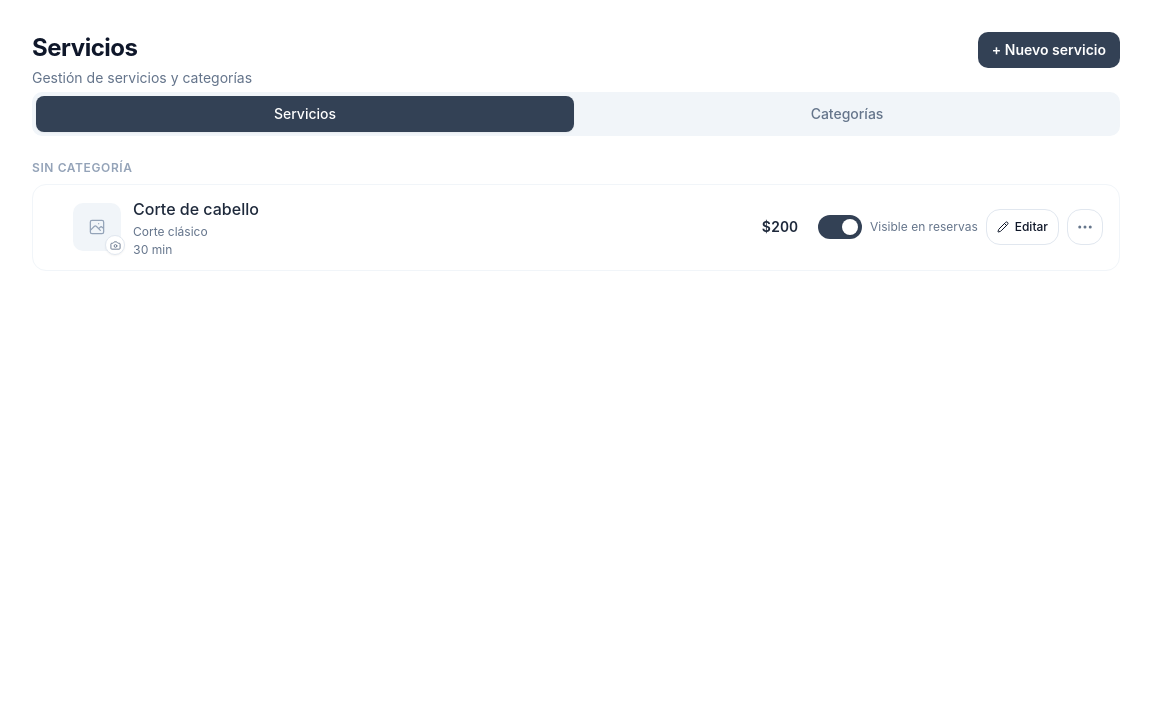
ServiciosPage — visibilidad y destacado (OM-30) › la visibilidad es un interruptor con nombre de acción y el destacado anuncia su estado
Click the button named "Más acciones de Corte de cabello". click: [1085, 227]
box: [1067, 209, 1103, 245]
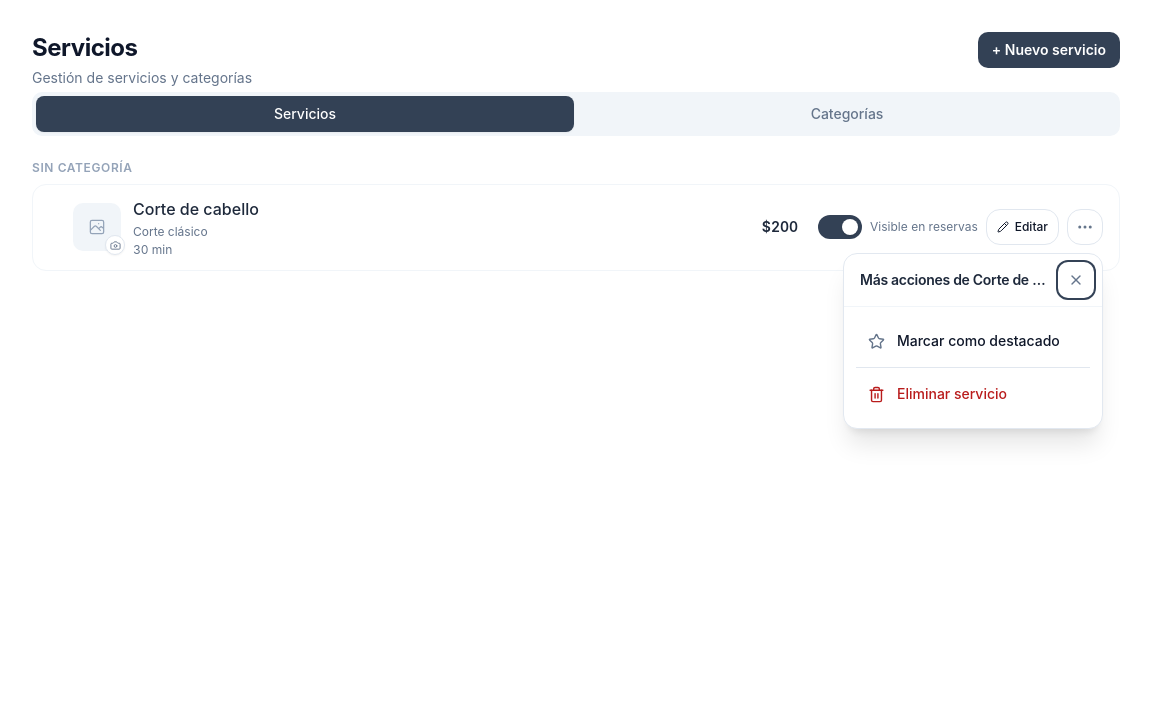
Check: the button "Marcar como destacado" is shown, box [856, 319, 1090, 363]
